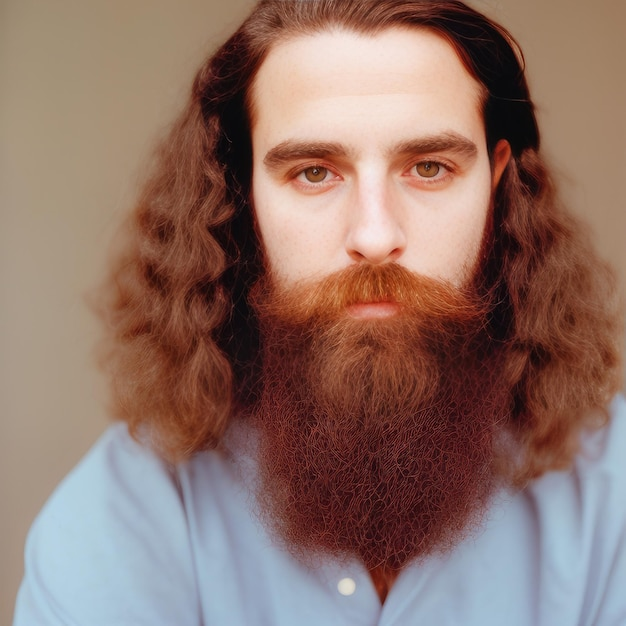young: (233, 12, 524, 530)
